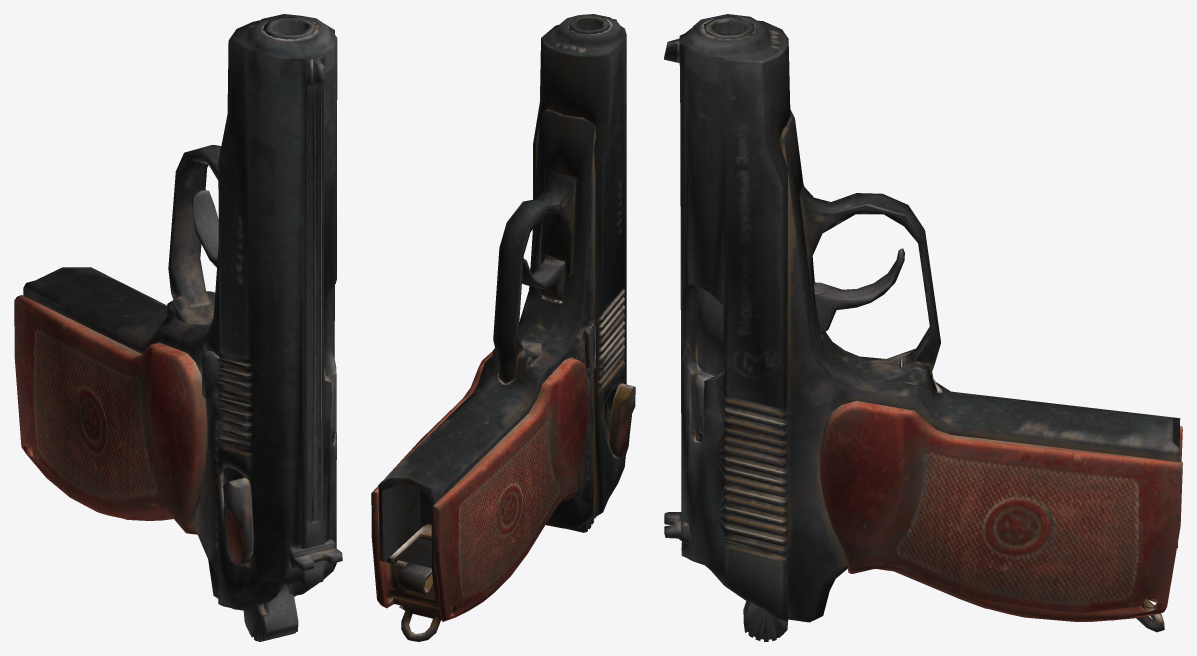
The model's file is MakarovNoMag.fbx.
The picture shows the model from 3 angles, left to right: view 1: azimuth 30°, elevation 25°; view 2: azimuth 150°, elevation 25°; view 3: azimuth 270°, elevation 25°; orthographic projection. The views are drawn at different scales.
Parts seen in each view (by area): view 1: PistolGrip; view 2: PistolGrip; view 3: PistolGrip.
Part boxes in pixels (x1,y1,x2,y2): PistolGrip: [14, 14, 342, 641]; PistolGrip: [371, 14, 635, 641]; PistolGrip: [664, 14, 1182, 641].
Bounding box in the file's own units: 0.024 × 0.1303 × 0.1008.
